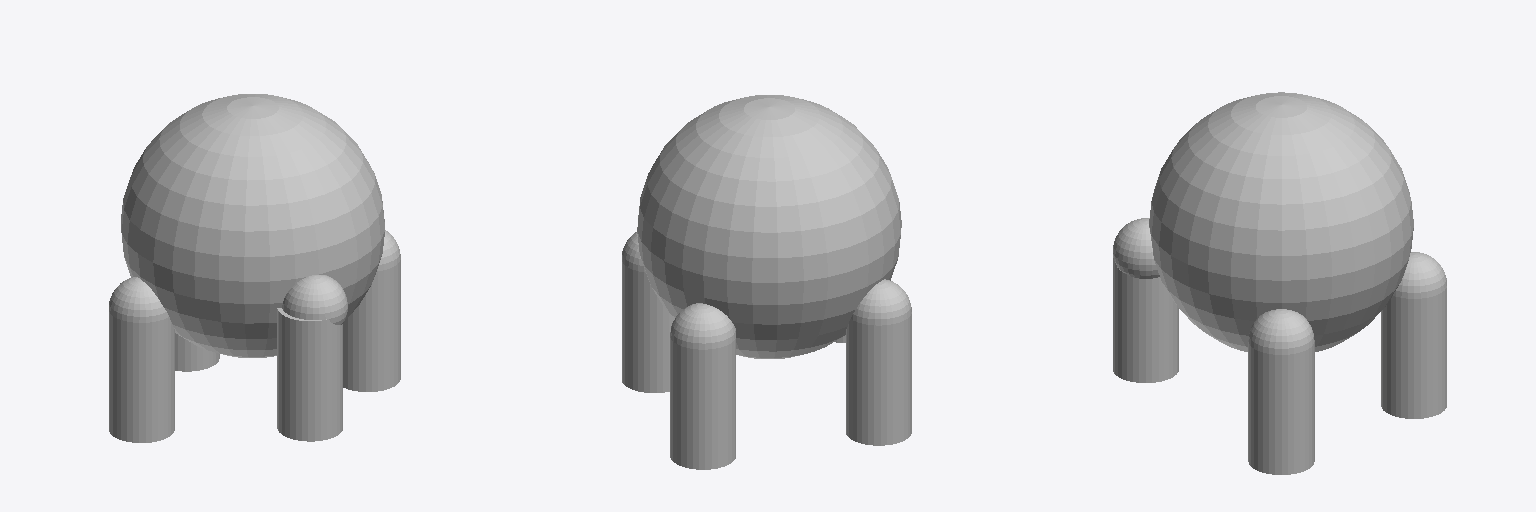
The model's file is spaceship.obj.
3 views of the same model, side by side, from view 1: azimuth 30°, elevation 25°; view 2: azimuth 150°, elevation 25°; view 3: azimuth 270°, elevation 25° (orthographic).
Parts seen in each view (by area): view 1: Sphere, Cylinder.003, Cylinder.002, Cylinder, Sphere.004, Sphere.003, Cylinder.001, Sphere.001; view 2: Sphere, Cylinder.001, Cylinder.002, Cylinder, Sphere.002, Sphere.003, Sphere.001; view 3: Sphere, Cylinder, Cylinder.001, Cylinder.003, Sphere.001, Sphere.004, Sphere.002.
Boxes of the visible parts, x1=… form: Sphere: x1=121, y1=94, x2=384, y2=357; Cylinder.003: x1=277, y1=308, x2=342, y2=441; Cylinder.002: x1=109, y1=312, x2=174, y2=442; Cylinder: x1=343, y1=260, x2=400, y2=391; Sphere.004: x1=282, y1=275, x2=347, y2=324; Sphere.003: x1=109, y1=277, x2=168, y2=322; Cylinder.001: x1=175, y1=333, x2=219, y2=371; Sphere.001: x1=377, y1=230, x2=400, y2=270; Sphere: x1=637, y1=95, x2=901, y2=358; Cylinder.001: x1=670, y1=338, x2=735, y2=469; Cylinder.002: x1=846, y1=314, x2=911, y2=445; Cylinder: x1=622, y1=262, x2=674, y2=392; Sphere.002: x1=670, y1=303, x2=735, y2=349; Sphere.003: x1=851, y1=279, x2=911, y2=325; Sphere.001: x1=622, y1=232, x2=645, y2=272; Sphere: x1=1149, y1=92, x2=1413, y2=351; Cylinder: x1=1248, y1=342, x2=1314, y2=474; Cylinder.001: x1=1381, y1=288, x2=1446, y2=418; Cylinder.003: x1=1113, y1=258, x2=1178, y2=382; Sphere.001: x1=1248, y1=309, x2=1314, y2=354; Sphere.004: x1=1113, y1=218, x2=1159, y2=278; Sphere.002: x1=1393, y1=252, x2=1446, y2=298.
Bounding box in the file's own units: 2.46 × 2.5 × 2.52.